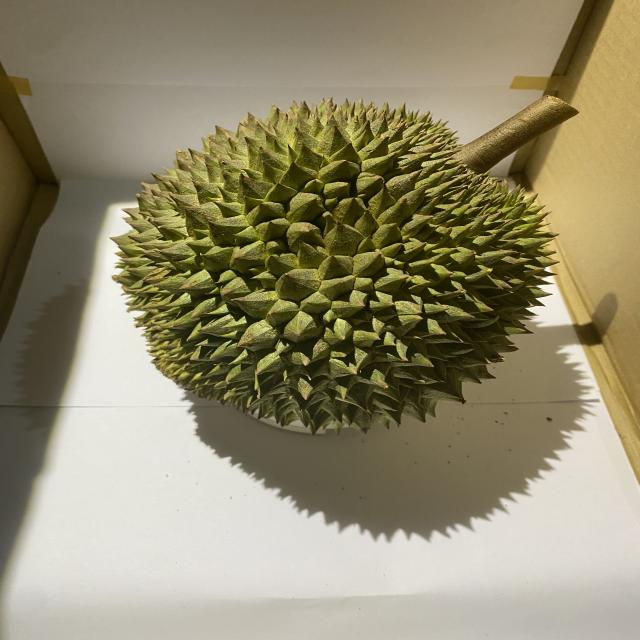immature: (108, 91, 563, 438)
